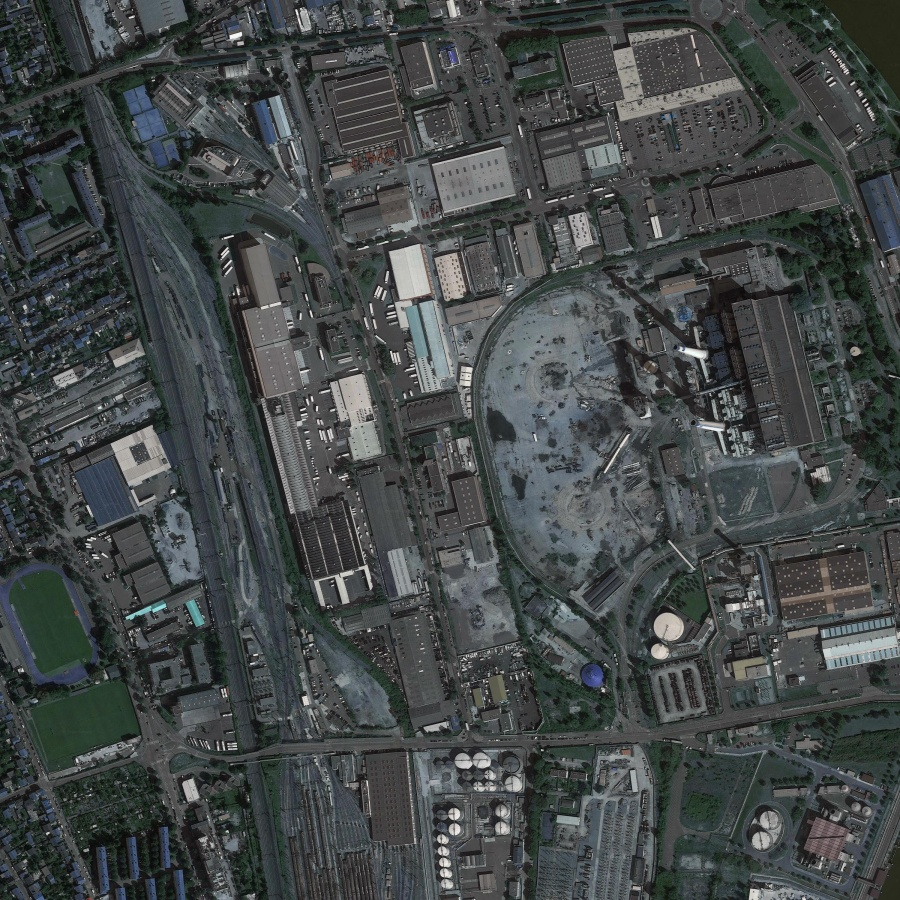PowerPlant: (602, 259, 806, 658)
